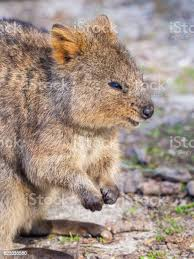quokka: (0, 10, 161, 245)
